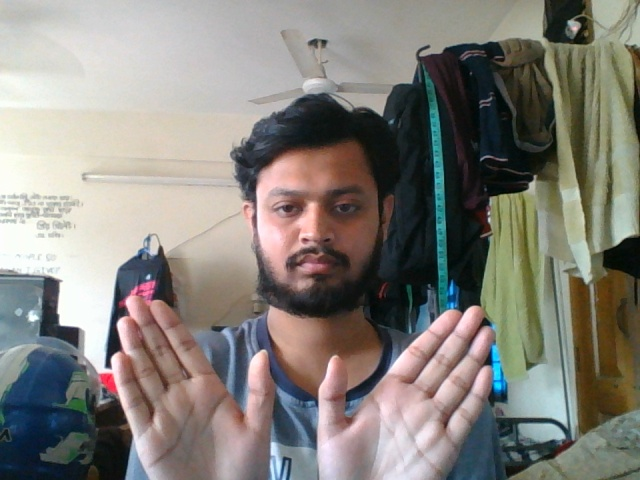naa: (105, 287, 505, 480)
